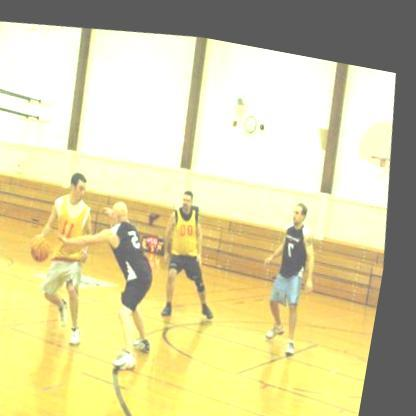basketball: (34, 228, 62, 260)
rim: (371, 136, 393, 150)
